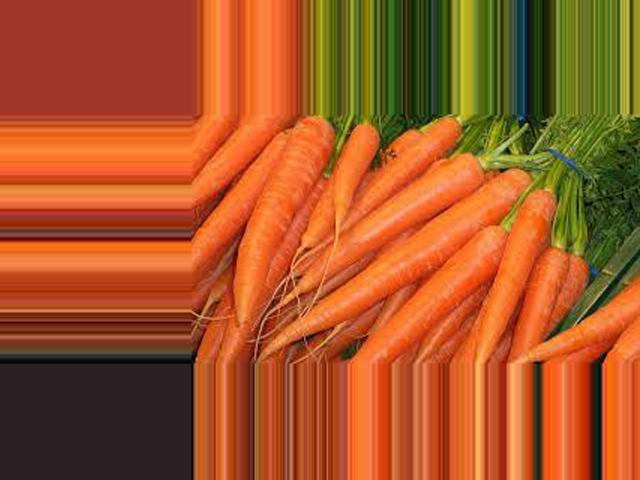carrot: (349, 226, 506, 365)
